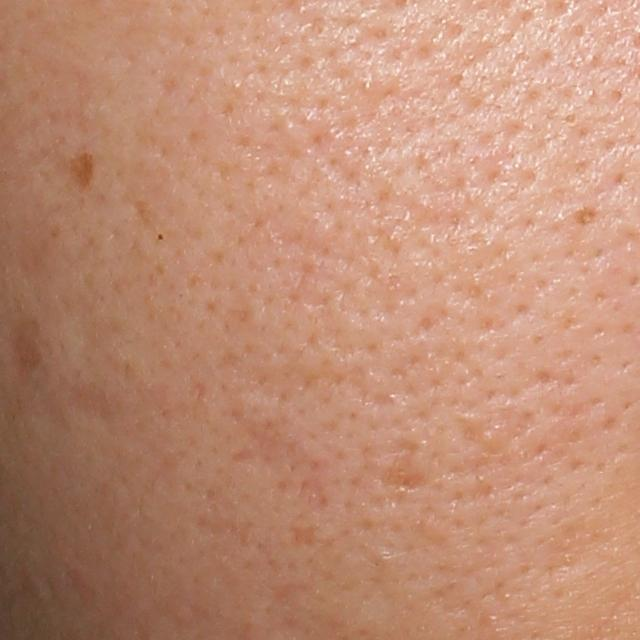atrophic_scar: (229, 413, 329, 475), (191, 492, 256, 547), (62, 379, 128, 431), (236, 364, 302, 403), (380, 460, 436, 495), (285, 520, 342, 551), (296, 476, 334, 515)
